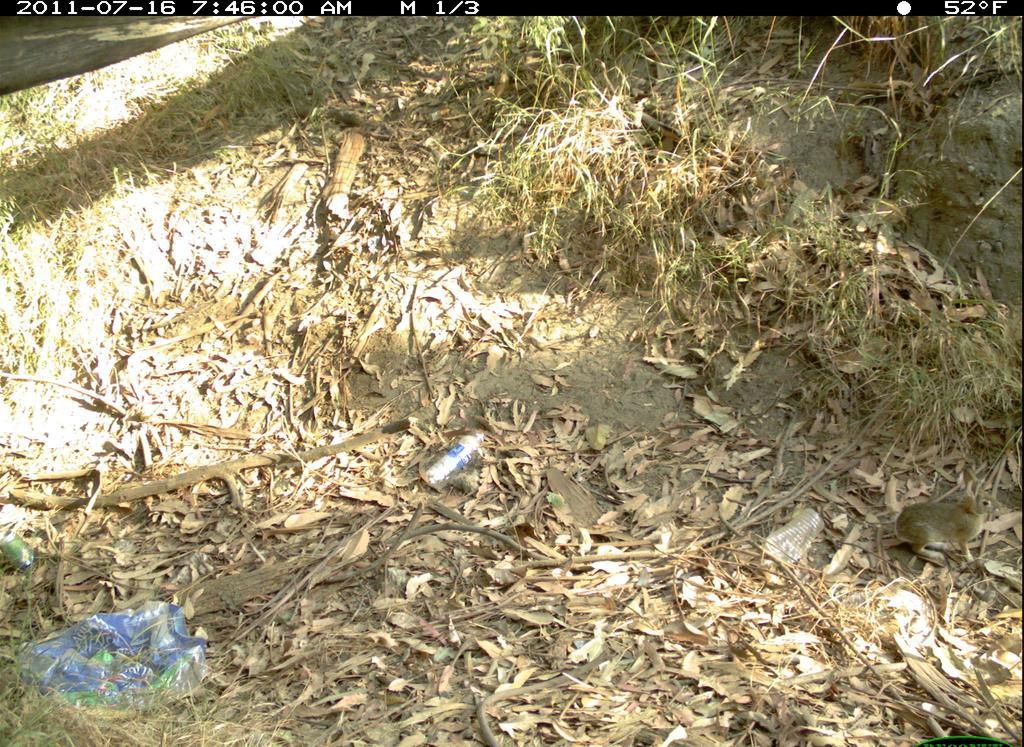rabbit: (895, 468, 996, 586)
